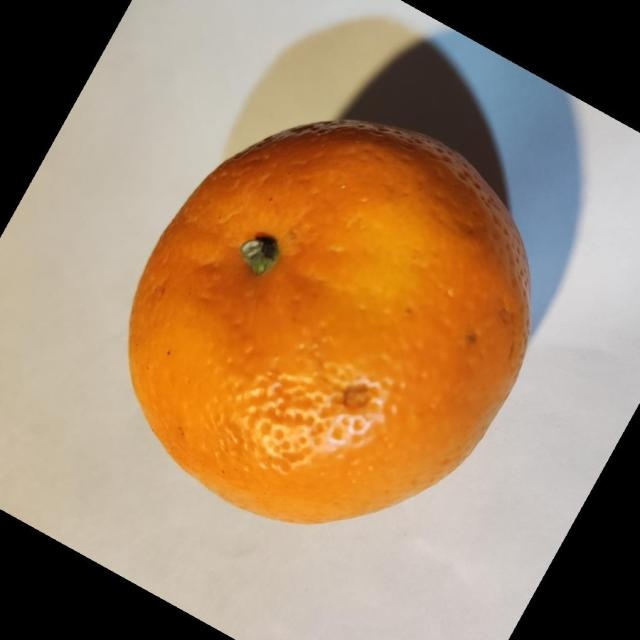agrume: (126, 118, 532, 526)
